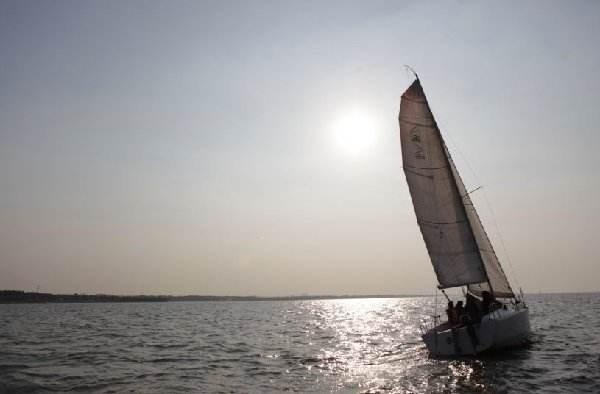fanchuan: (397, 69, 534, 356)
